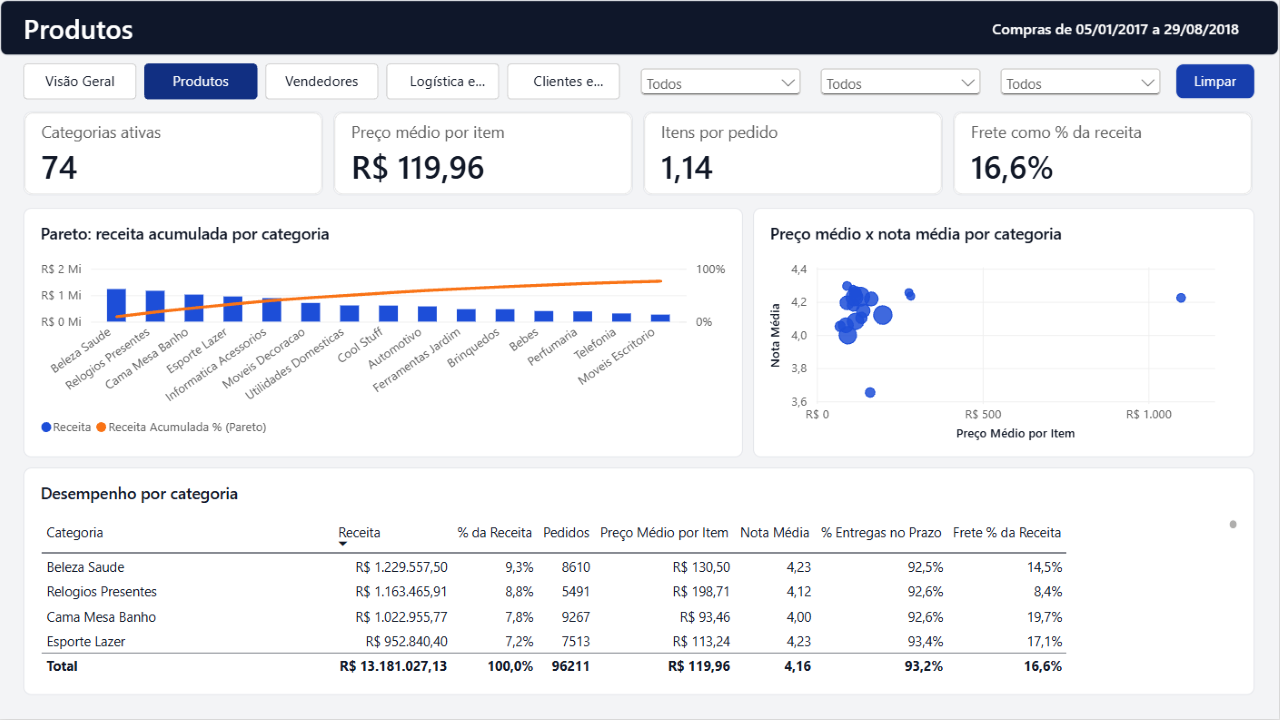

What the dashboard file says about the page in this screenshot:
{"tool":"powerbi","page":{"name":"Produtos","canvas":[1280,720],"ordinal":1},"visuals":[{"type":"shape","box":[0,0,1280,56],"z":0},{"type":"cardVisual","fields":{"Data":["_Medidas.Categorias Ativas"]},"box":[24,112,300,84],"z":1000},{"type":"cardVisual","fields":{"Data":["_Medidas.Preço Médio por Item"]},"box":[334,112,300,84],"z":2000},{"type":"cardVisual","fields":{"Data":["_Medidas.Itens por Pedido"]},"box":[644,112,300,84],"z":3000},{"type":"cardVisual","fields":{"Data":["_Medidas.Frete % da Receita"]},"box":[954,112,300,84],"z":4000},{"type":"lineClusteredColumnComboChart","title":"Pareto: receita acumulada por categoria","fields":{"Category":["Dim_Produto.Categoria"],"Y":["_Medidas.Receita"],"Y2":["_Medidas.Receita Acumulada % (Pareto)"]},"box":[24,208,720,250],"z":5000},{"type":"scatterChart","title":"Preço médio x nota média por categoria","fields":{"Category":["Dim_Produto.Categoria"],"Size":["_Medidas.Receita"],"X":["_Medidas.Preço Médio por Item"],"Y":["_Medidas.Nota Média"]},"box":[754,208,502,250],"z":6000},{"type":"tableEx","title":"Desempenho por categoria","fields":{"Values":["Dim_Produto.Categoria","_Medidas.Receita","_Medidas.% da Receita","_Medidas.Pedidos","_Medidas.Preço Médio por Item","_Medidas.Nota Média","_Medidas.% Entregas no Prazo","_Medidas.Frete % da Receita"]},"box":[24,468,1232,228],"z":7000},{"type":"textbox","box":[24,10,700,36],"z":8000},{"type":"cardVisual","fields":{"Data":["_Medidas.Período de Dados"]},"box":[860,16,396,24],"z":9000},{"type":"pageNavigator","box":[24,64,600,36],"z":10000},{"type":"slicer","title":"Ano","fields":{"Values":["Dim_Calendario.Ano"]},"box":[636,64,170,36],"z":11000},{"type":"slicer","fields":{"Values":["Dim_Cliente.Região"]},"box":[816,64,170,36],"z":12000},{"type":"slicer","fields":{"Values":["Dim_Cliente.UF"]},"box":[996,64,170,36],"z":13000},{"type":"actionButton","box":[1176,64,80,36],"z":14000}]}

Visuals, with their boxes in screenshot pixels (x1, y1, x2, y2), scaled from the page's 1280x720 canvas onto the 1280x720 screenshot:
shape: [left=0, top=0, right=1279, bottom=56]
cardVisual - _Medidas.Categorias Ativas: [left=24, top=112, right=324, bottom=196]
cardVisual - _Medidas.Preço Médio por Item: [left=334, top=112, right=634, bottom=196]
cardVisual - _Medidas.Itens por Pedido: [left=644, top=112, right=944, bottom=196]
cardVisual - _Medidas.Frete % da Receita: [left=954, top=112, right=1254, bottom=196]
"Pareto: receita acumulada por categoria" lineClusteredColumnComboChart: [left=24, top=208, right=744, bottom=458]
"Preço médio x nota média por categoria" scatterChart: [left=754, top=208, right=1256, bottom=458]
"Desempenho por categoria" tableEx: [left=24, top=468, right=1256, bottom=696]
textbox: [left=24, top=10, right=724, bottom=46]
cardVisual - _Medidas.Período de Dados: [left=860, top=16, right=1256, bottom=40]
pageNavigator: [left=24, top=64, right=624, bottom=100]
"Ano" slicer: [left=636, top=64, right=806, bottom=100]
slicer - Dim_Cliente.Região: [left=816, top=64, right=986, bottom=100]
slicer - Dim_Cliente.UF: [left=996, top=64, right=1166, bottom=100]
actionButton: [left=1176, top=64, right=1256, bottom=100]
